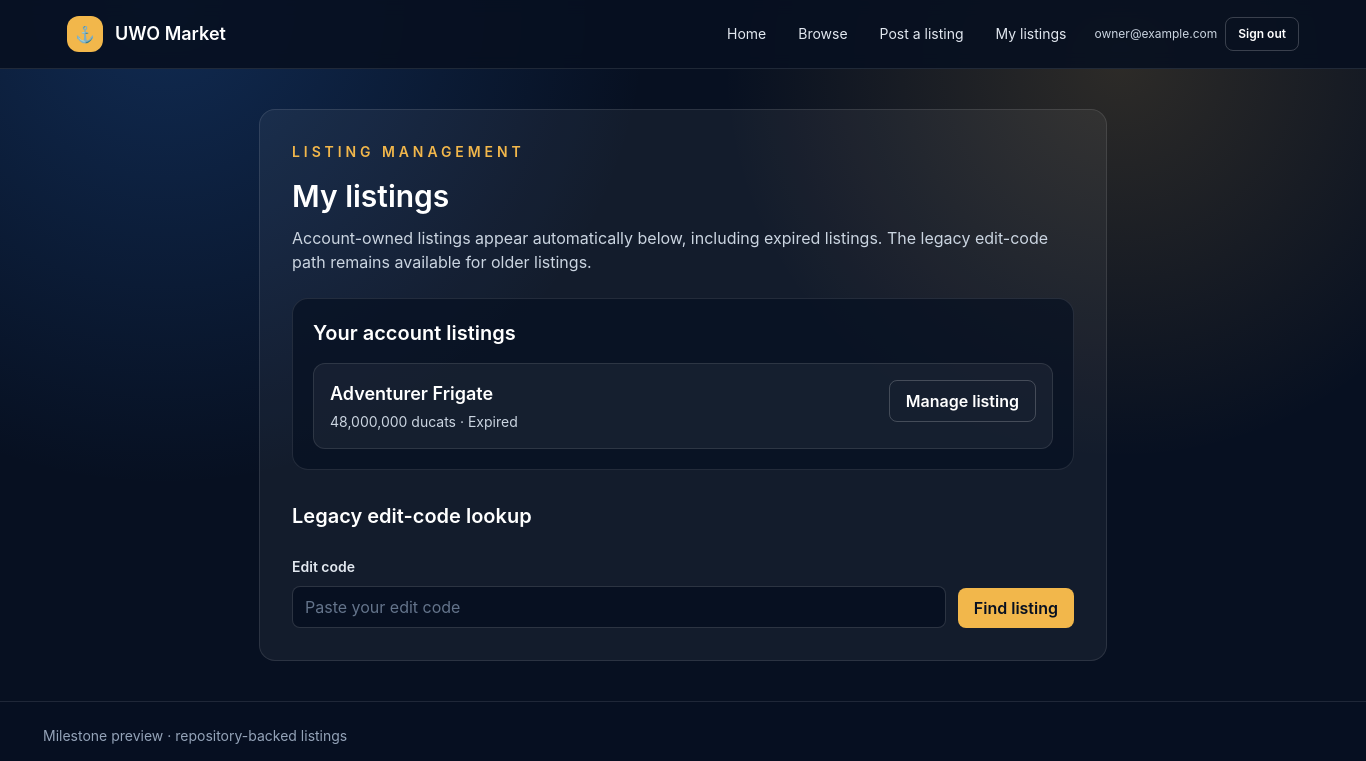
Test: manage listings page › automatically lists owner listings and loads offers through owner paths
expect the heading "Adventurer Frigate" is shown: met, box x1=330 y1=380 x2=518 y2=408
expect the text "48,000,000 ducats · Expired" is shown: met, box x1=330 y1=412 x2=518 y2=432
Click the button "Manage listing" at [962, 401], box x1=889 y1=380 x2=1036 y2=422
(page scrolled)
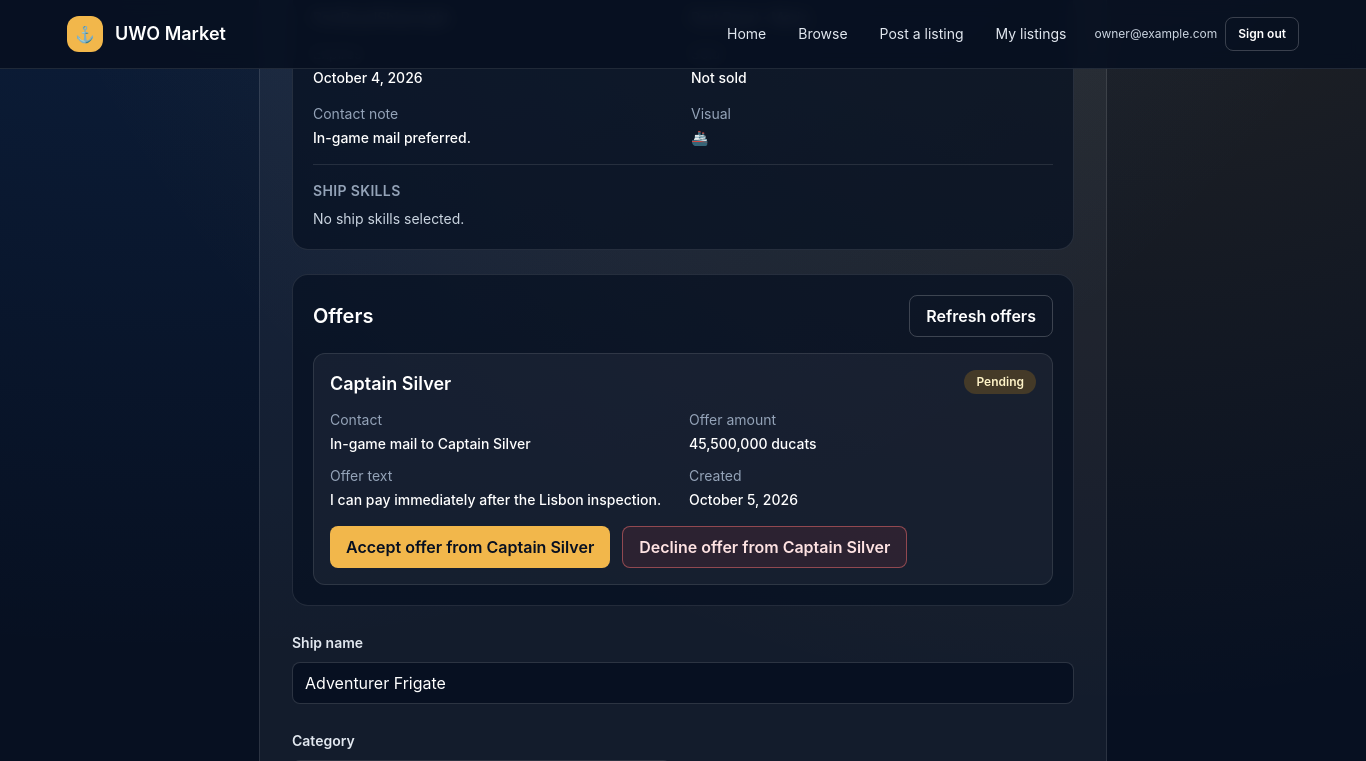
expect the heading "Captain Silver" is shown: met, box x1=330 y1=370 x2=451 y2=398
